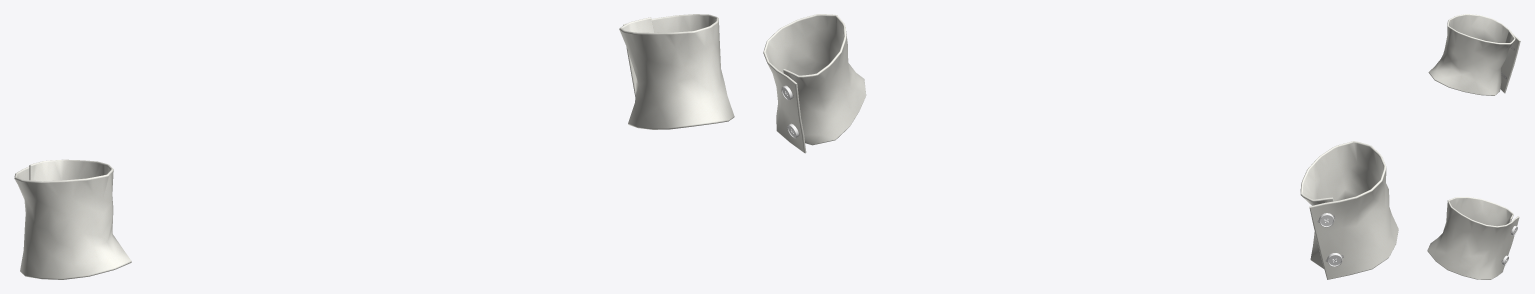
Rendered from Cuffs.glb.
3 views of the same model, side by side, from view 1: azimuth 30°, elevation 25°; view 2: azimuth 150°, elevation 25°; view 3: azimuth 270°, elevation 25° (orthographic). The views are drawn at different scales.
Parts seen in each view (by area): view 1: Cloth; view 2: Cloth; view 3: Cloth.
Boxes of the visible parts, x1,y1,x2,y2 form: Cloth: (14,14,734,279); Cloth: (763,14,1398,279); Cloth: (1427,14,1520,279).
Bounding box in the file's own units: 60.04 × 10.12 × 11.46.
Materials: 6 (5 with a texture image).
